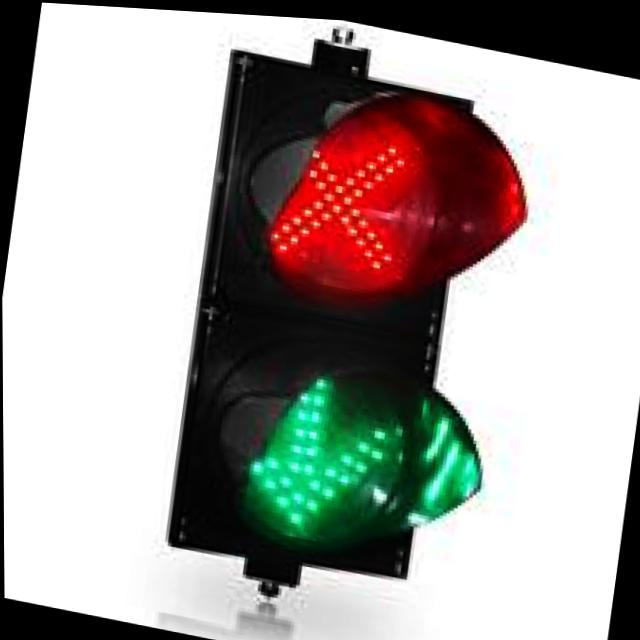green_light: (143, 307, 505, 635)
red_light: (197, 39, 531, 368)
